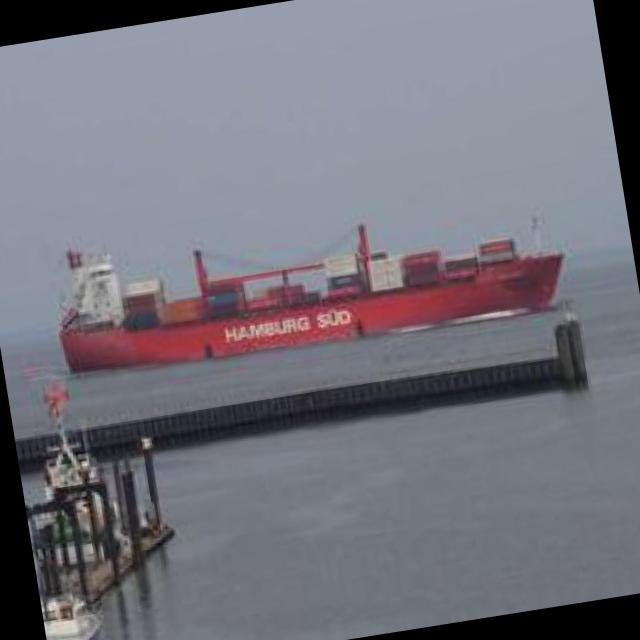boat: (44, 178, 588, 396)
